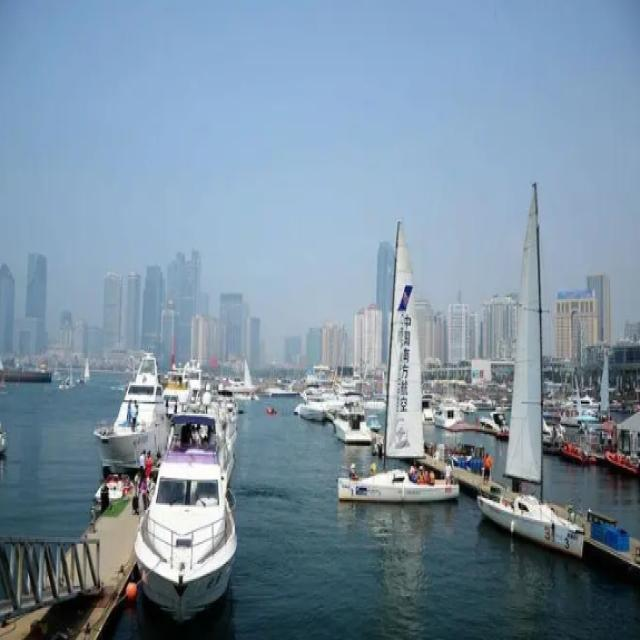houseboat: (136, 356, 244, 607), (95, 344, 168, 465)
sailboat: (480, 196, 591, 561), (346, 222, 470, 514)
